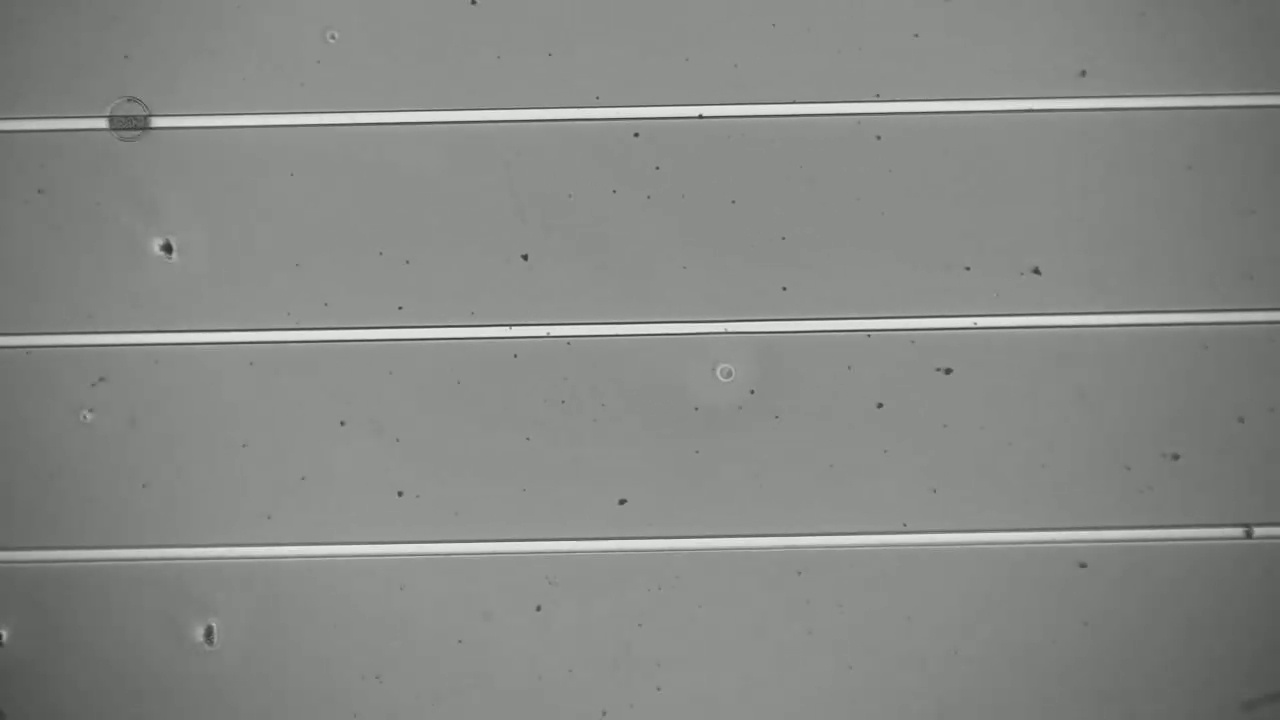gray_line: (90, 104, 173, 144)
stains_enbedded: (1234, 516, 1268, 553)
